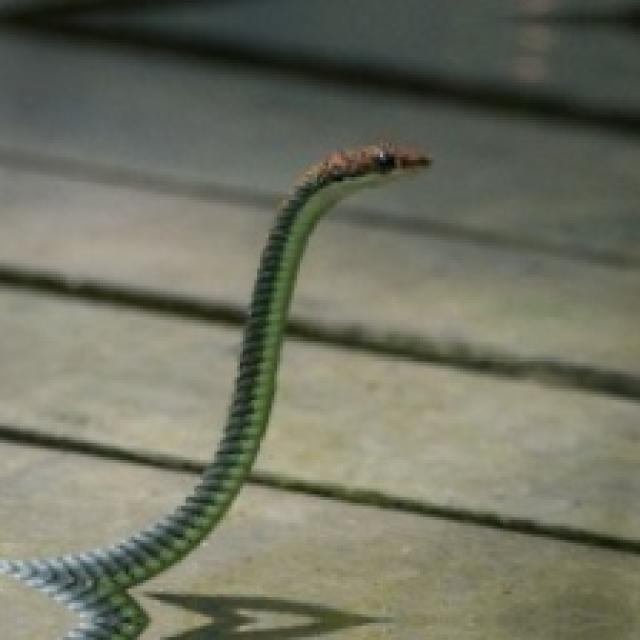paradise tree snake: (0, 143, 429, 637)
